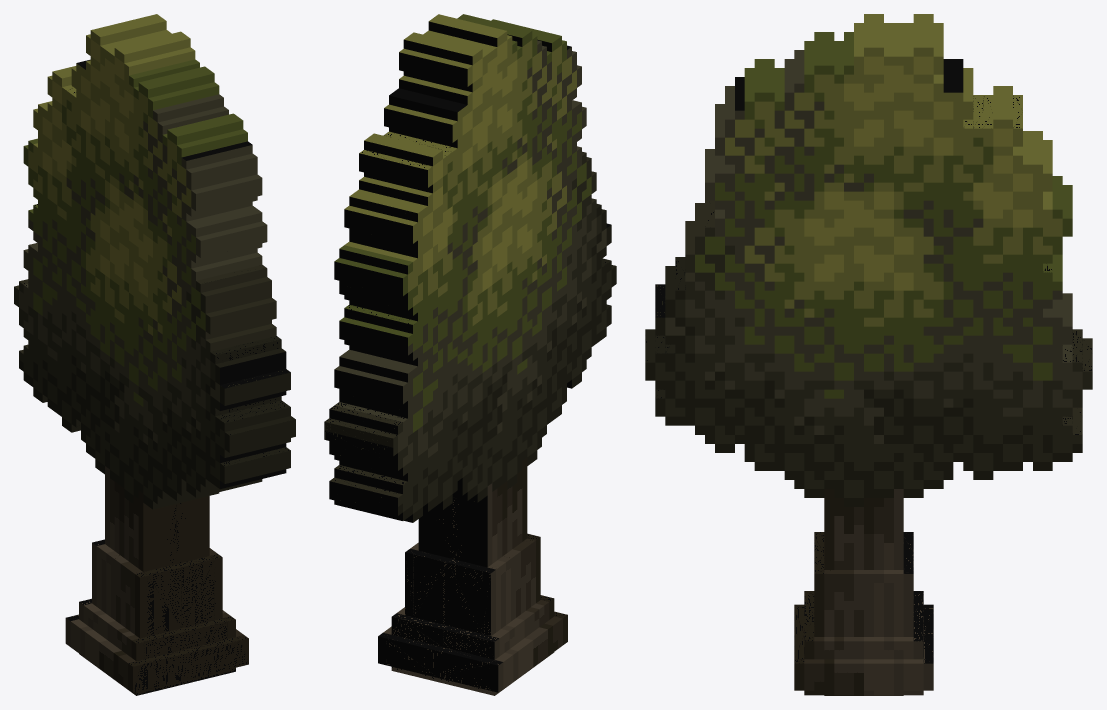
File: tree.glb
3 views of the same model, side by side, from view 1: azimuth 30°, elevation 25°; view 2: azimuth 150°, elevation 25°; view 3: azimuth 270°, elevation 25° (orthographic). The views are drawn at different scales.
Visible parts, largest first — view 1: tree; view 2: tree; view 3: tree.
Part boxes in pixels (bbox=[...]): tree: bbox=[14, 14, 295, 695]; tree: bbox=[324, 14, 616, 695]; tree: bbox=[645, 14, 1092, 695].
Size of the model in its own units: 1.4 by 7.2 by 4.5.
1 material, 1 textured.
